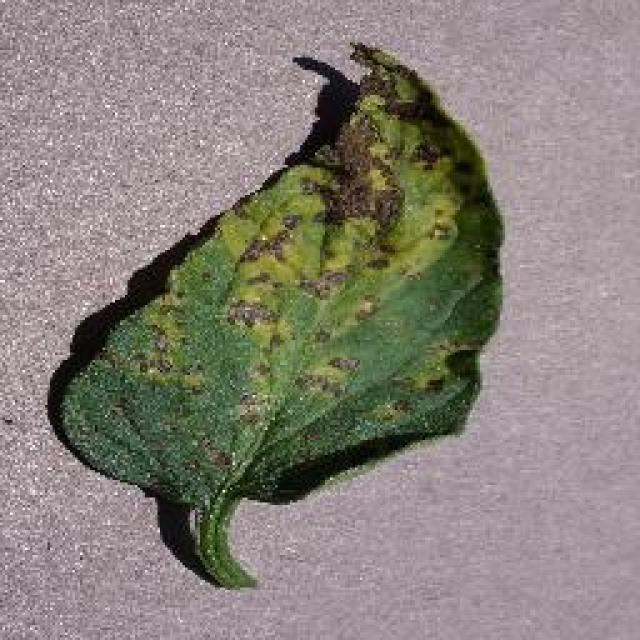Tomato___Septoria_leaf_spot: (60, 45, 502, 585)
